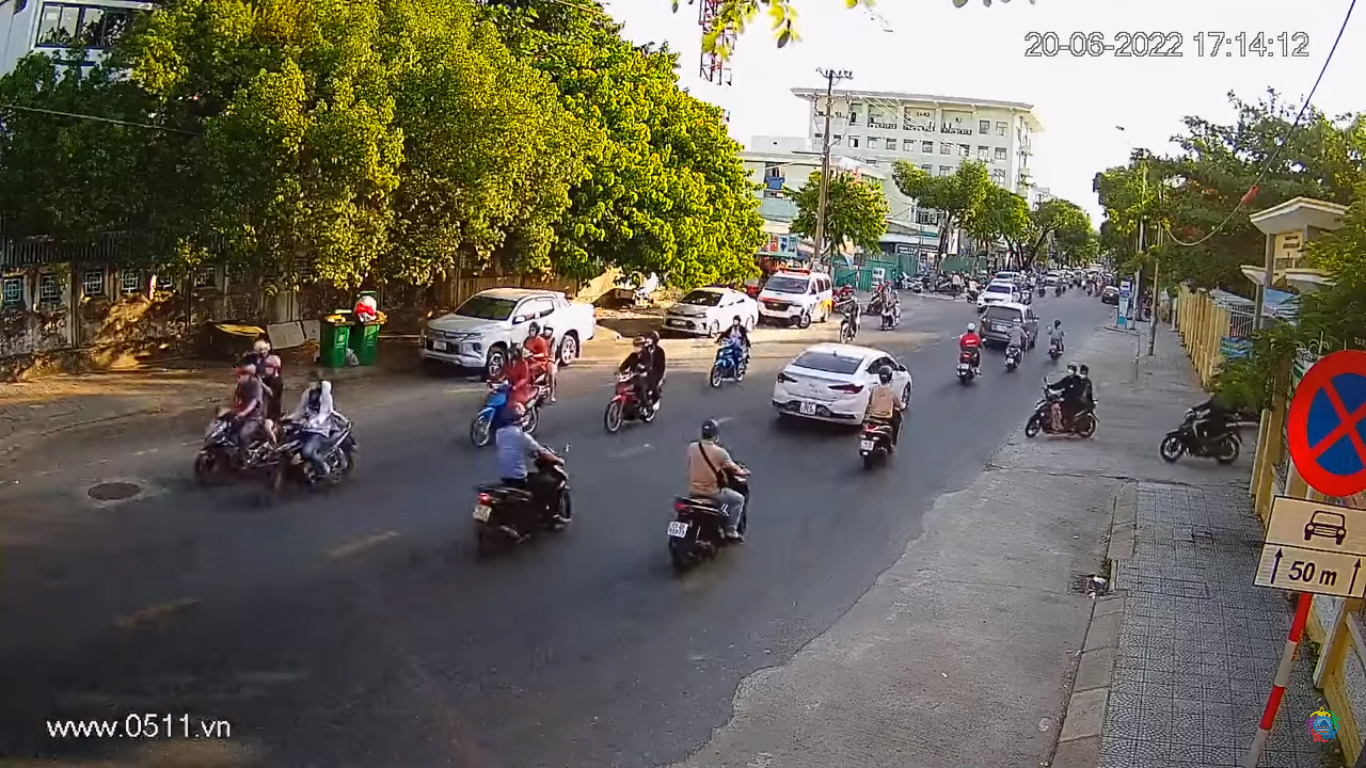car: (772, 342, 915, 436)
